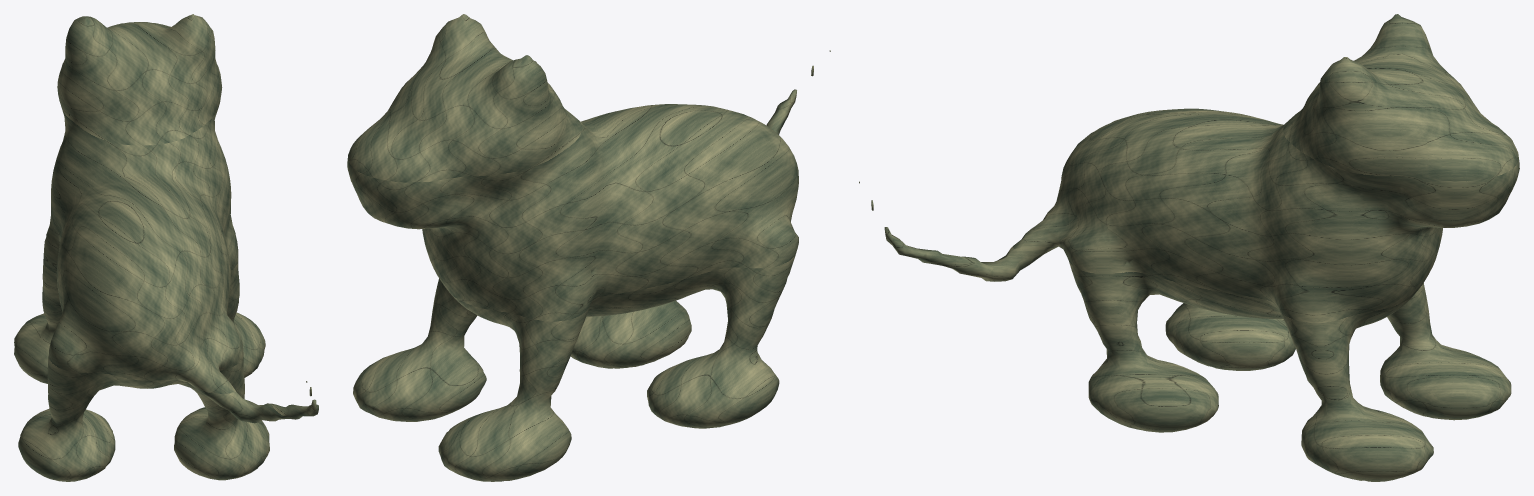
The model's file is Sculpt_DBA_Tiger.fbx.
The picture shows the model from 3 angles, left to right: view 1: azimuth 30°, elevation 25°; view 2: azimuth 150°, elevation 25°; view 3: azimuth 270°, elevation 25°; orthographic projection. The views are drawn at different scales.
Parts seen in each view (by area): view 1: Sculpt_DBA_Tiger; view 2: Sculpt_DBA_Tiger; view 3: Sculpt_DBA_Tiger.
Part boxes in pixels (x1,y1,x2,y2): Sculpt_DBA_Tiger: (14, 14, 318, 481); Sculpt_DBA_Tiger: (347, 14, 830, 481); Sculpt_DBA_Tiger: (859, 14, 1519, 481).
Size of the model in its own units: 442 by 790 by 525.
1 material, 1 textured.
